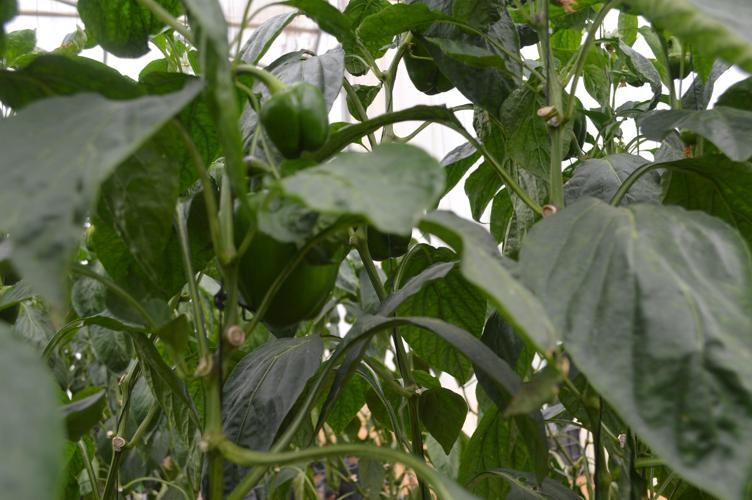BellPepper: (211, 185, 351, 340), (255, 76, 330, 167)
